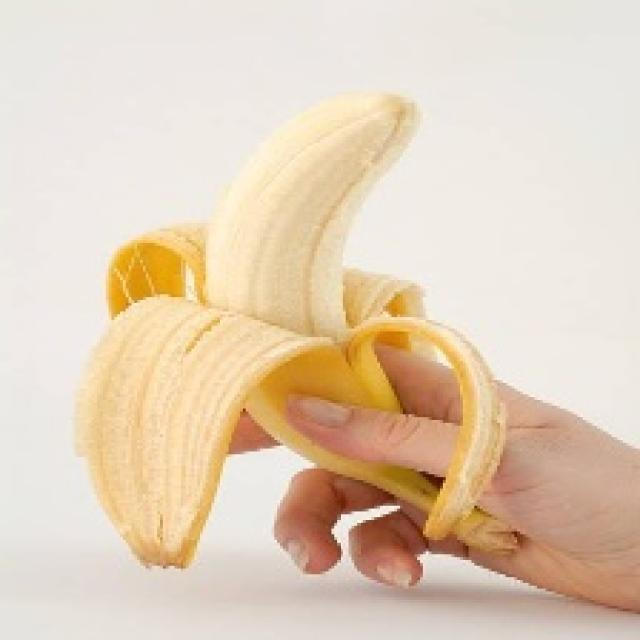Banana: (74, 89, 520, 568)
